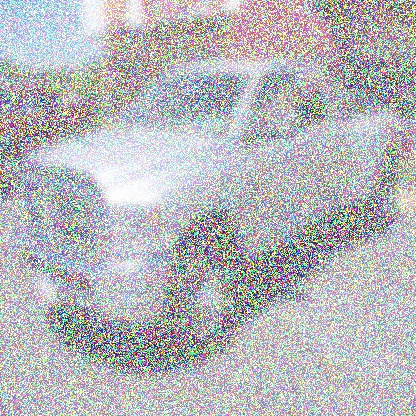Vehicle: (17, 59, 404, 365)
